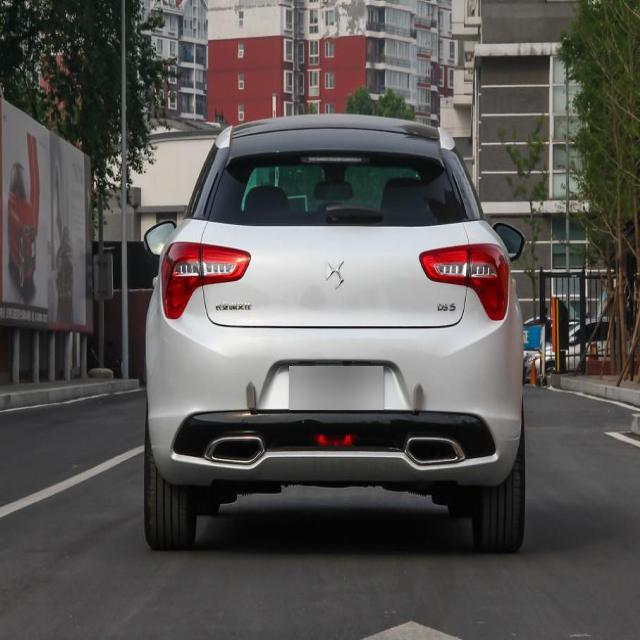back_glass: (208, 151, 462, 228)
back_left_side_light: (160, 239, 252, 322)
back_right_side_light: (419, 242, 509, 322)
front_left_side_mirror: (142, 218, 177, 260)
front_right_side_mirror: (492, 220, 526, 263)
rear_bumper: (145, 327, 524, 488)
wheel: (144, 447, 196, 552), (473, 451, 524, 548)
